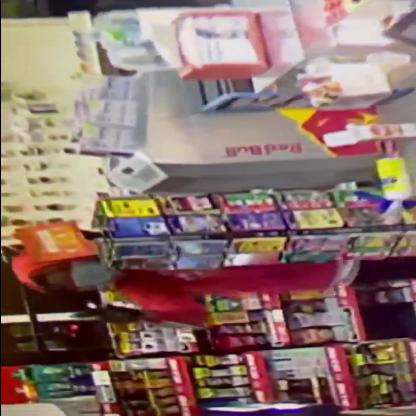Pistol: (56, 300, 137, 326)
